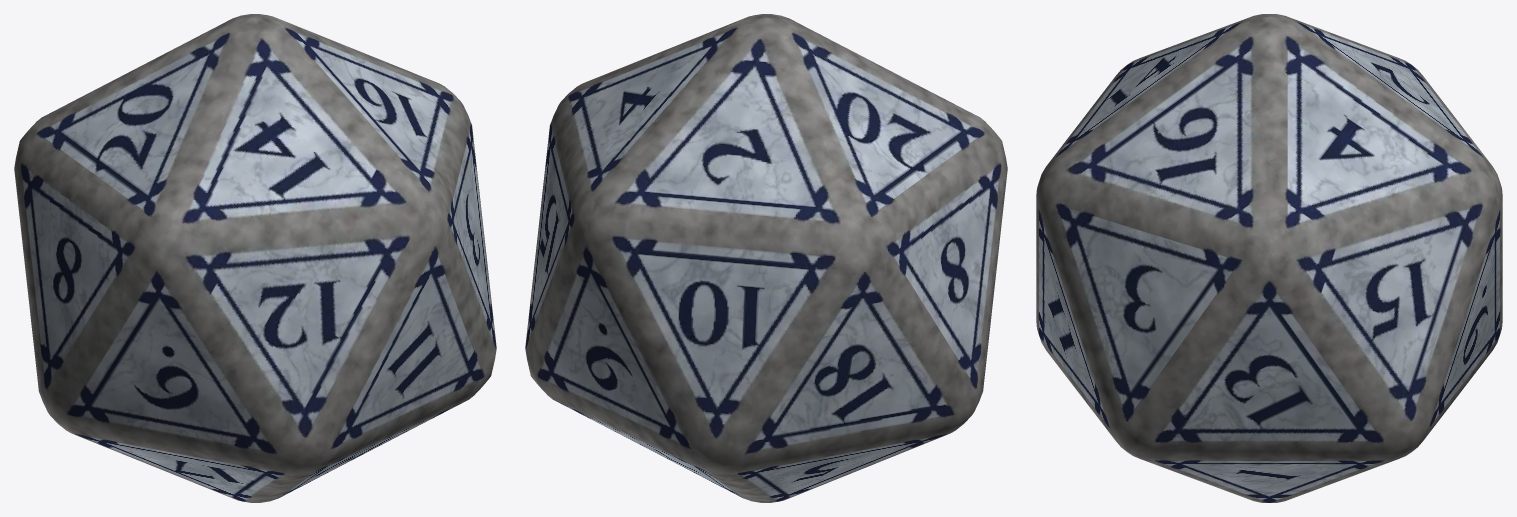
File: nord-d20.glb
3 views of the same model, side by side, from view 1: azimuth 30°, elevation 25°; view 2: azimuth 150°, elevation 25°; view 3: azimuth 270°, elevation 25° (orthographic).
Visible parts, largest first — view 1: nord_d20; view 2: nord_d20; view 3: nord_d20.
Boxes of the visible parts, x1,y1,x2,y2 form: nord_d20: [14, 14, 496, 502]; nord_d20: [525, 14, 1007, 502]; nord_d20: [1036, 14, 1502, 502].
Bounding box in the file's own units: 1.74 × 1.9 × 1.67.
1 material, 1 textured.
